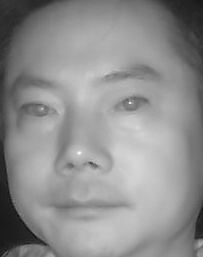eye: (19, 96, 58, 126), (110, 93, 154, 118)
mouth: (43, 184, 128, 227)
